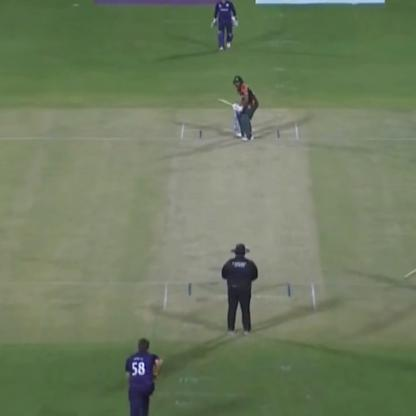bat: (209, 92, 237, 112)
pitch: (156, 127, 306, 314)
